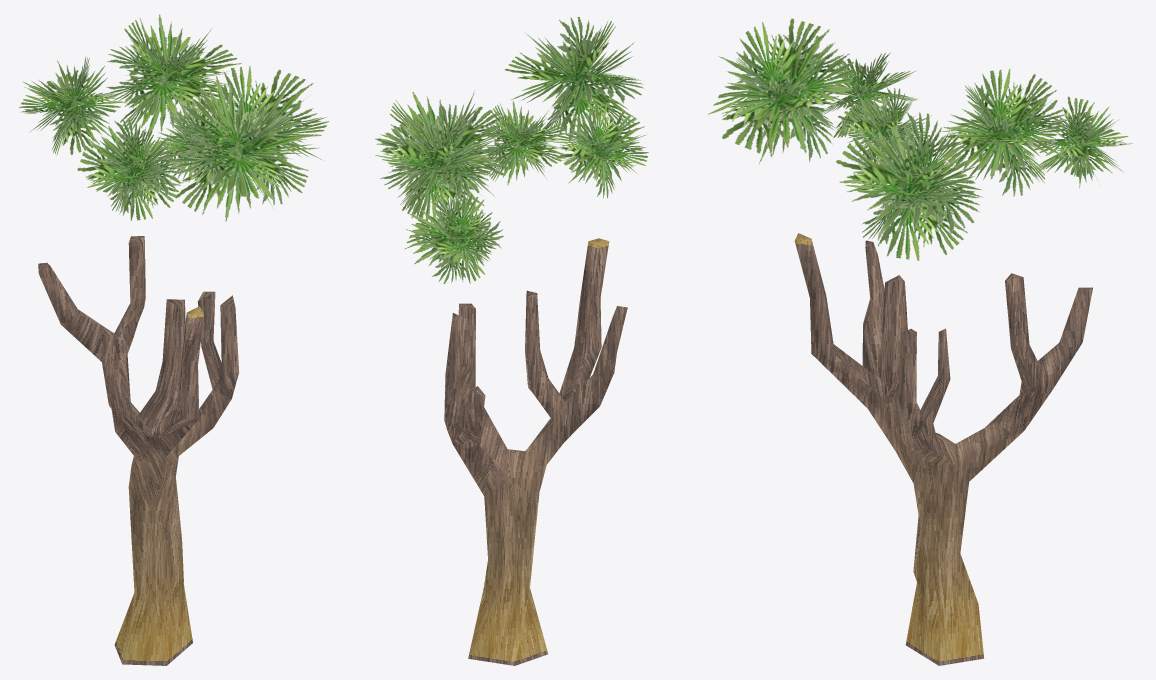
3 views of the same model, side by side, from view 1: azimuth 30°, elevation 25°; view 2: azimuth 150°, elevation 25°; view 3: azimuth 270°, elevation 25° (orthographic). The views are drawn at different scales.
Parts seen in each view (by area): view 1: leaves3, trunk; view 2: leaves3, trunk; view 3: leaves3, trunk.
Part boxes in pixels (x1,y1,x2,y2): leaves3: (19,14,328,221); trunk: (38,236,239,665); leaves3: (375,16,648,283); trunk: (444,238,627,665); leaves3: (708,18,1132,260); trunk: (794,233,1092,665).
Size of the model in its own units: 160 by 341 by 226.
Materials: 2 (2 with a texture image).
